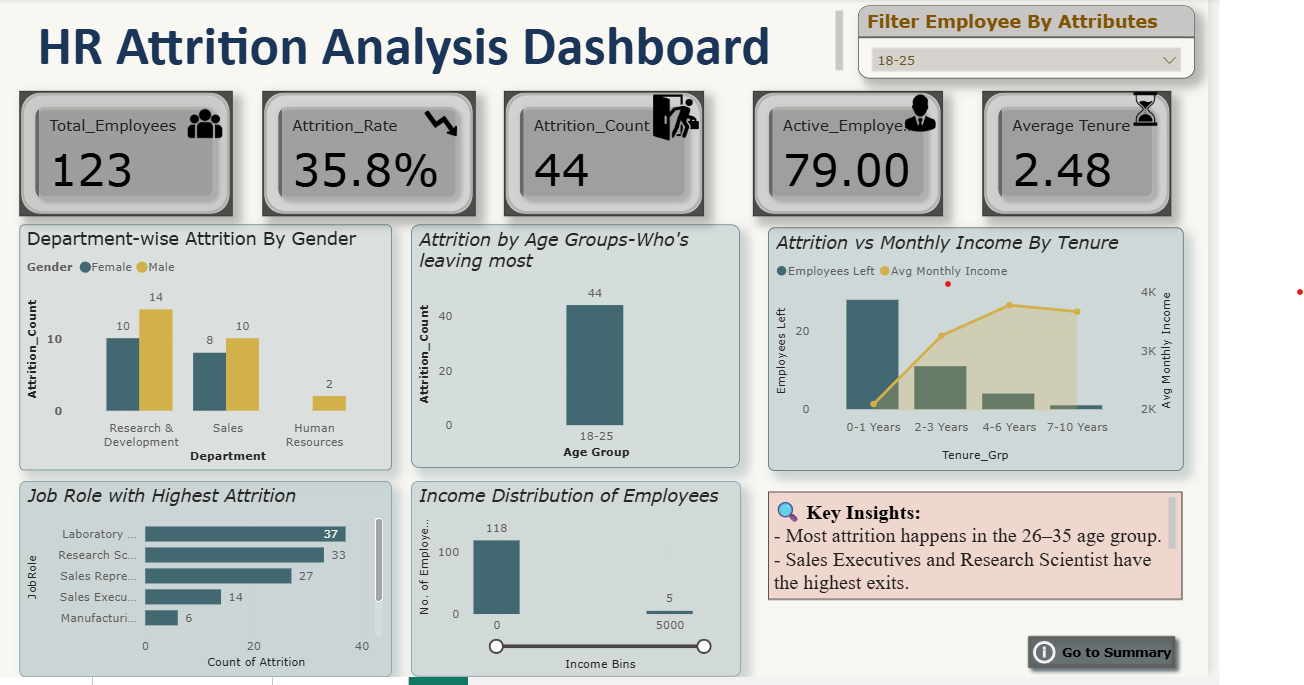

What the dashboard file says about the page in this screenshot:
{"tool":"powerbi","page":{"name":"Dashboard","canvas":[1280,720],"ordinal":0},"visuals":[{"type":"cardVisual","title":"Total Employees","fields":{"Data":["HR-Employee-Attrition.Total_Employees"]},"box":[20.9,99.4,225.8,132.5],"z":0},{"type":"clusteredColumnChart","title":"Department-wise Attrition By Gender","fields":{"Category":["HR-Employee-Attrition.Department"],"Y":["HR-Employee-Attrition.Attrition_Count"],"Series":["HR-Employee-Attrition.Gender"]},"box":[20.7,240.2,394.5,260.9],"z":1000},{"type":"clusteredColumnChart","title":"Attrition by Age Groups-Who''s leaving most","fields":{"Category":["HR-Employee-Attrition.Age Group"],"Y":["HR-Employee-Attrition.Attrition_Count"]},"box":[435.8,240.2,348.3,257.7],"z":2000},{"type":"lineClusteredColumnComboChart","title":"Attrition vs Monthly Income By Tenure","fields":{"Category":["HR-Employee-Attrition.Tenure_Grp"],"Y":["HR-Employee-Attrition.Attrition_Count"],"Y2":["Avg(HR-Employee-Attrition.MonthlyIncome)"]},"box":[814.4,243.4,440.6,257.7],"z":3000},{"type":"barChart","title":"Job Role with Highest Attrition","fields":{"Category":["HR-Employee-Attrition.JobRole"],"Y":["CountNonNull(HR-Employee-Attrition.Attrition)"]},"box":[21.1,512.5,394.3,207.7],"z":4000},{"type":"clusteredColumnChart","title":"Income Distribution of Employees","fields":{"Category":["HR-Employee-Attrition.Income Bins"],"Y":["CountNonNull(HR-Employee-Attrition.EmployeeNumber)"]},"box":[435.6,512.9,349.7,207.4],"z":5000},{"type":"slicer","title":"Filter Employee By Attributes","fields":{"Values":["HR-Employee-Attrition.Age Group","HR-Employee-Attrition.Gender","HR-Employee-Attrition.Department","HR-Employee-Attrition.EducationField","HR-Employee-Attrition.MaritalStatus","HR-Employee-Attrition.JobRole","HR-Employee-Attrition.Tenure","HR-Employee-Attrition.PerformanceRating"]},"box":[910.4,8.6,357.1,77.3],"z":6000},{"type":"cardVisual","fields":{"Data":["HR-Employee-Attrition.Active_Employees"]},"box":[798.8,99.4,201.2,132.5],"z":7000},{"type":"cardVisual","fields":{"Data":["Avg(HR-Employee-Attrition.Tenure)"]},"box":[1041.7,99.4,200,132.5],"z":8000},{"type":"cardVisual","fields":{"Data":["HR-Employee-Attrition.Attrition_Count"]},"box":[533.7,99.4,212.3,132.5],"z":9000},{"type":"cardVisual","fields":{"Data":["HR-Employee-Attrition.Attrition_Rate"]},"box":[278.5,99.4,225.8,132.5],"z":10000},{"type":"textbox","box":[814.4,523.3,439,114.5],"z":11000},{"type":"image","box":[187.7,109.2,58.9,46.6],"z":12000},{"type":"image","box":[435.6,109.2,63.8,46.6],"z":13000},{"type":"image","box":[950.9,96.9,49.1,50.3],"z":14000},{"type":"image","box":[1189,92,52.8,50.3],"z":15000},{"type":"image","box":[687.1,96.9,58.9,58.9],"z":16000},{"type":"actionButton","box":[1081.6,668.1,173.4,50.9],"z":17000},{"type":"textbox","box":[20.7,8,878,77.9],"z":18000}]}

Visuals, with their boxes on the page's 1280x720 design canvas (x1, y1, x2, y2). These are canvas units, not pixel positions in the 1304x685 screenshot, which may show the page scaled, cropped or inside an application window:
"Total Employees" cardVisual: bbox=[21, 99, 247, 232]
"Department-wise Attrition By Gender" clusteredColumnChart: bbox=[21, 240, 415, 501]
"Attrition by Age Groups-Who''s leaving most" clusteredColumnChart: bbox=[436, 240, 784, 498]
"Attrition vs Monthly Income By Tenure" lineClusteredColumnComboChart: bbox=[814, 243, 1255, 501]
"Job Role with Highest Attrition" barChart: bbox=[21, 512, 415, 720]
"Income Distribution of Employees" clusteredColumnChart: bbox=[436, 513, 785, 720]
"Filter Employee By Attributes" slicer: bbox=[910, 9, 1268, 86]
cardVisual - HR-Employee-Attrition.Active_Employees: bbox=[799, 99, 1000, 232]
cardVisual - Avg(HR-Employee-Attrition.Tenure): bbox=[1042, 99, 1242, 232]
cardVisual - HR-Employee-Attrition.Attrition_Count: bbox=[534, 99, 746, 232]
cardVisual - HR-Employee-Attrition.Attrition_Rate: bbox=[278, 99, 504, 232]
textbox: bbox=[814, 523, 1253, 638]
image: bbox=[188, 109, 247, 156]
image: bbox=[436, 109, 499, 156]
image: bbox=[951, 97, 1000, 147]
image: bbox=[1189, 92, 1242, 142]
image: bbox=[687, 97, 746, 156]
actionButton: bbox=[1082, 668, 1255, 719]
textbox: bbox=[21, 8, 899, 86]
